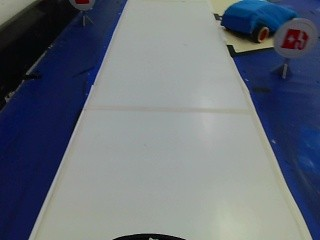battery: (278, 24, 309, 54)
car: (222, 0, 296, 43)
